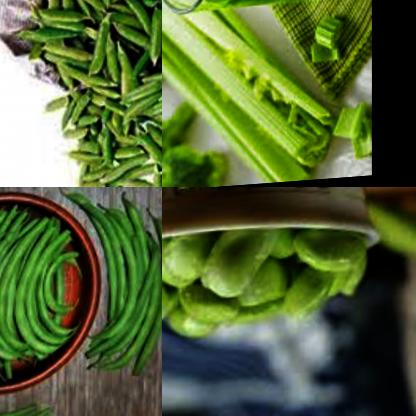beans: (162, 194, 378, 372), (17, 0, 162, 187), (0, 199, 83, 389), (95, 187, 162, 379), (360, 197, 416, 311)
broccoli: (162, 142, 225, 187), (162, 96, 200, 166)
celery: (162, 0, 347, 187), (319, 104, 371, 178), (299, 20, 345, 88)
